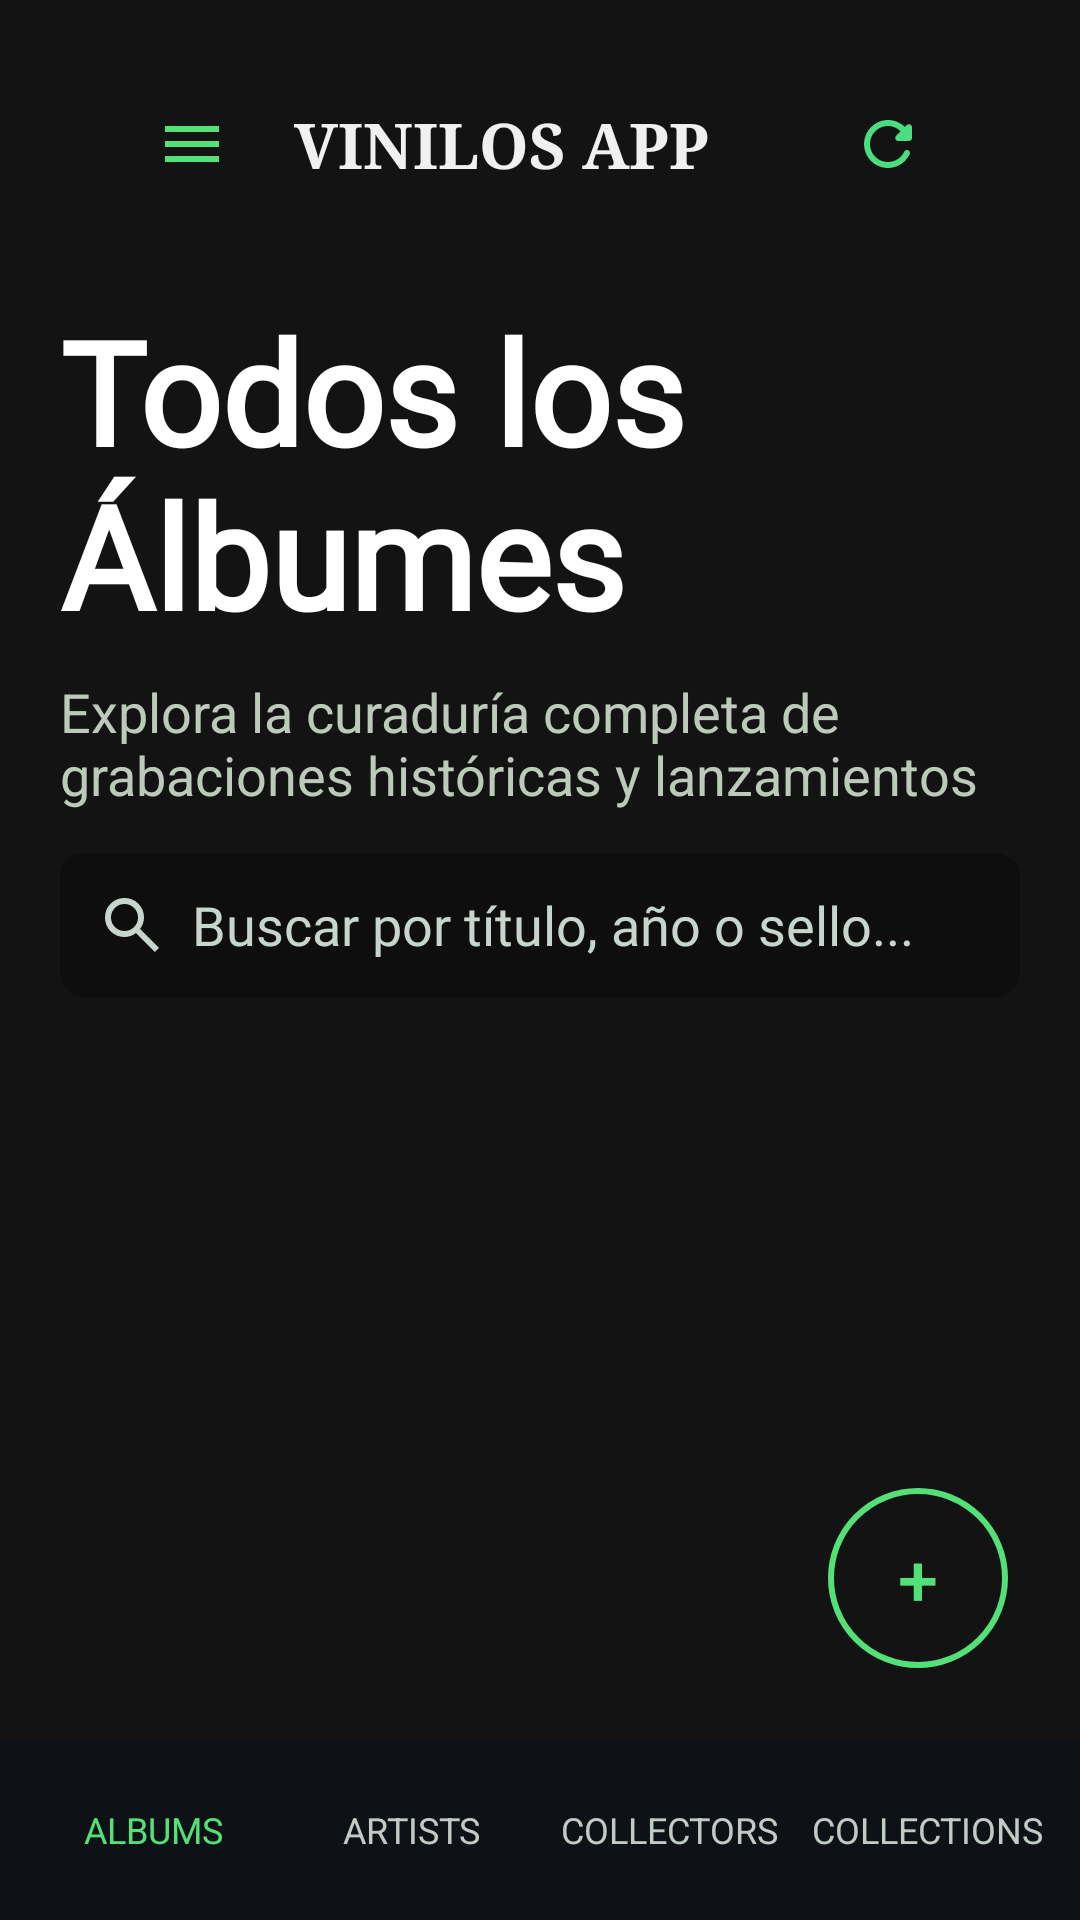

Where to tap for icons on this 1080px x 1920px app screen, as [x,y]:
Abrir menú de navegación: [192,144]
Actualizar contenido: [888,144]
search: [132,925]
